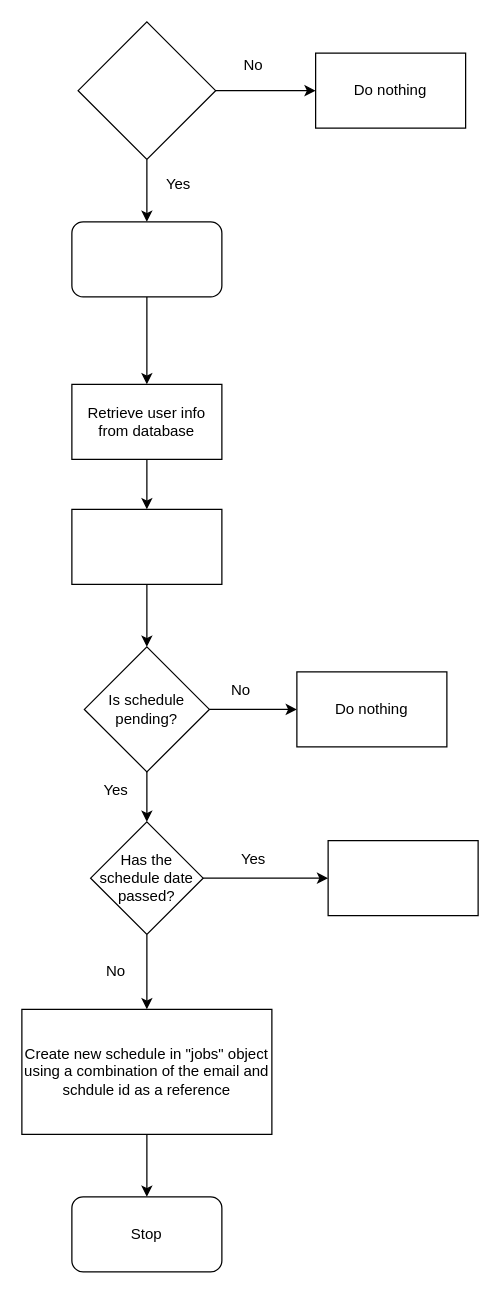
This 500x1294 diagram has some shape labels left out. Each missing label, with the centre of its shape:
Did user log in successfully: point 146,90
Get all schedules: point 146,546
Set schedule as "expired": point 402,877
Start: point 146,259
